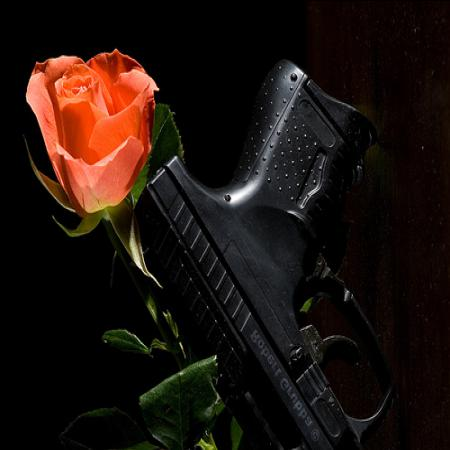Pistol: (144, 50, 390, 448)
